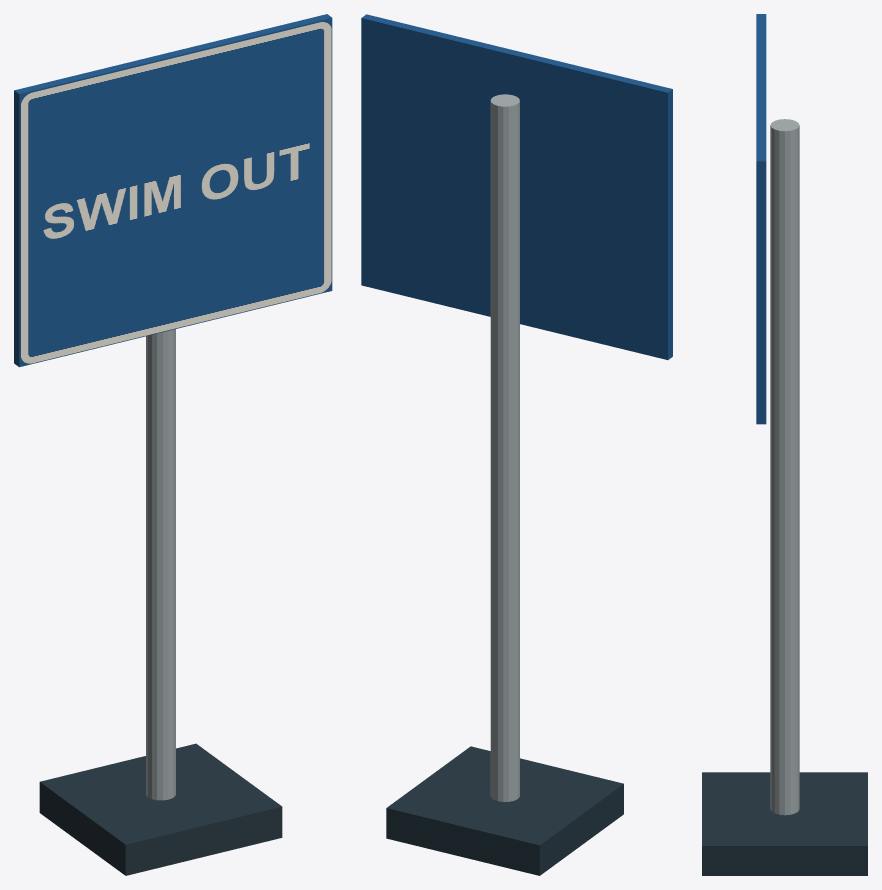
File: scendance-plan-swim-out.glb
The picture shows the model from 3 angles, left to right: view 1: azimuth 30°, elevation 25°; view 2: azimuth 150°, elevation 25°; view 3: azimuth 270°, elevation 25°; orthographic projection. The views are drawn at different scales.
Bounding box in the file's own units: 0.84 × 2 × 0.4.
4 materials, 1 textured.
